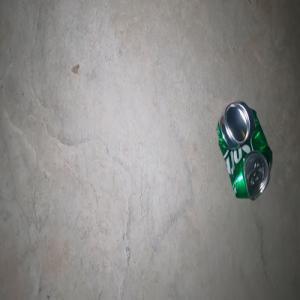SodaCan: (216, 101, 272, 201)
